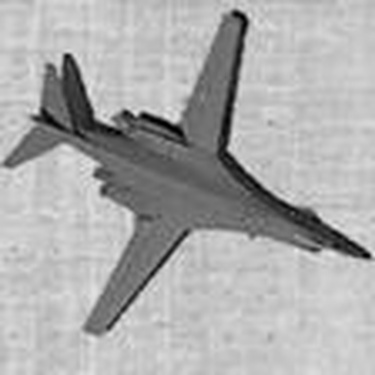airplane: (1, 11, 370, 356)
